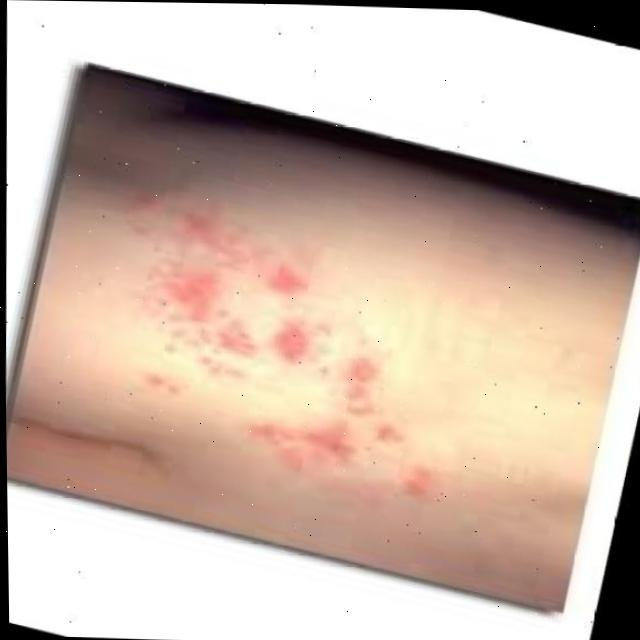Shingles: (143, 193, 435, 493)
